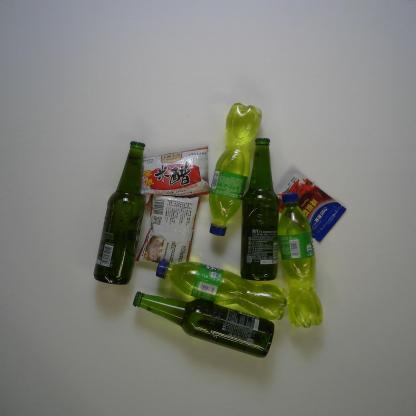Alcohol: (132, 290, 275, 358), (92, 140, 146, 286), (239, 136, 280, 282)
Drink: (155, 260, 288, 321), (208, 101, 264, 238), (276, 191, 324, 329)
Seasoner: (275, 163, 348, 243), (134, 193, 201, 265), (139, 146, 212, 208)
